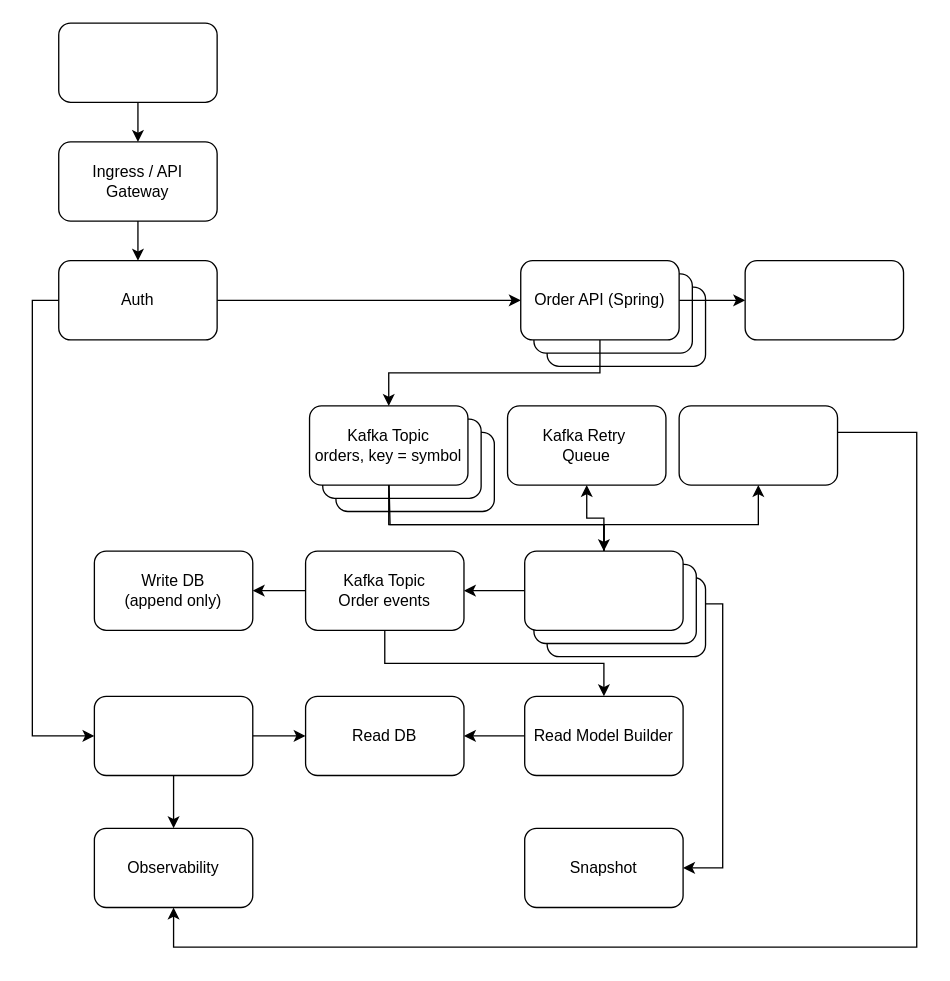
The diagram is 950 pixels wide and 981 high, and some of its shapes have lost their labels. The shapes that lost their labels are listed below. From the top down, each one's box as (x1, y1, x2, y2) in pixels, then its label:
(57, 22, 217, 102): Frontend
(744, 259, 904, 340): Idempotency Store (Redis)
(678, 405, 838, 485): Kafka Topic orders DLQ
(523, 550, 683, 630): Orderbook Workers
(93, 695, 253, 776): Query API
